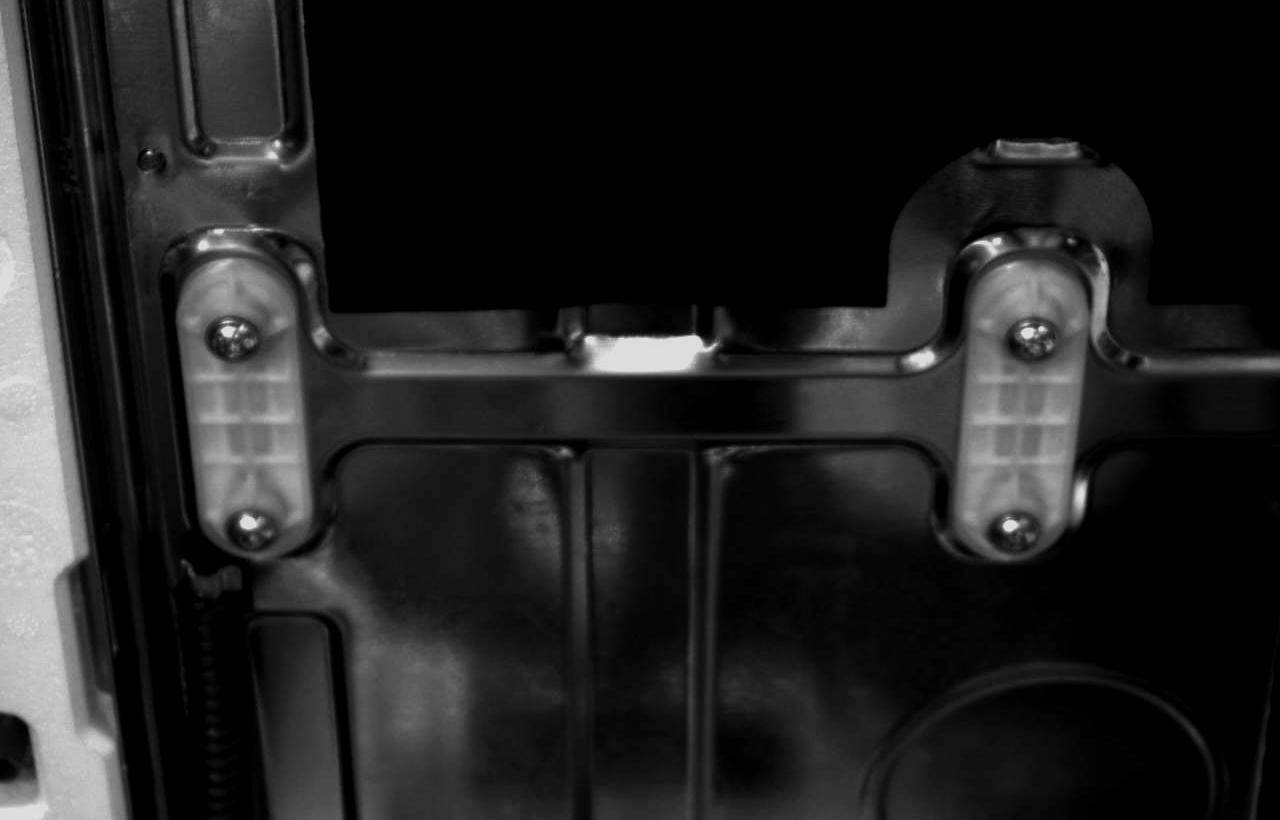vida-ok: (191, 294, 277, 372), (991, 304, 1079, 377), (212, 492, 292, 557), (977, 505, 1052, 563)
